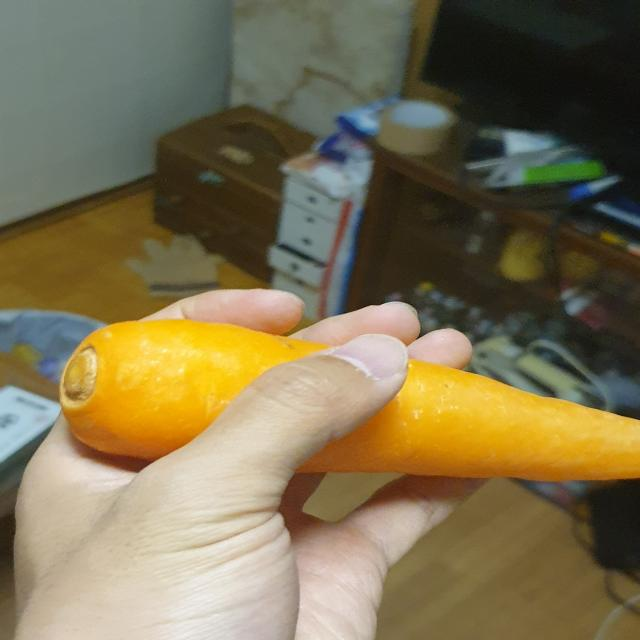carrot: (49, 313, 640, 486)
